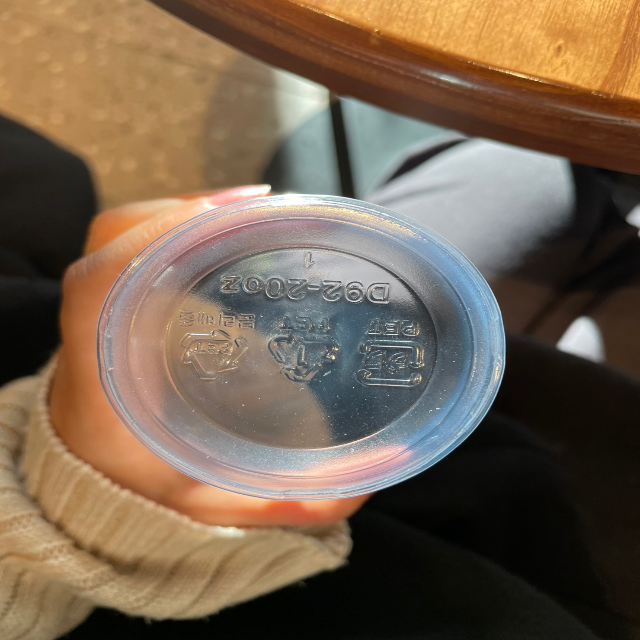pet: (169, 303, 256, 380), (357, 314, 430, 396), (266, 312, 338, 392)
